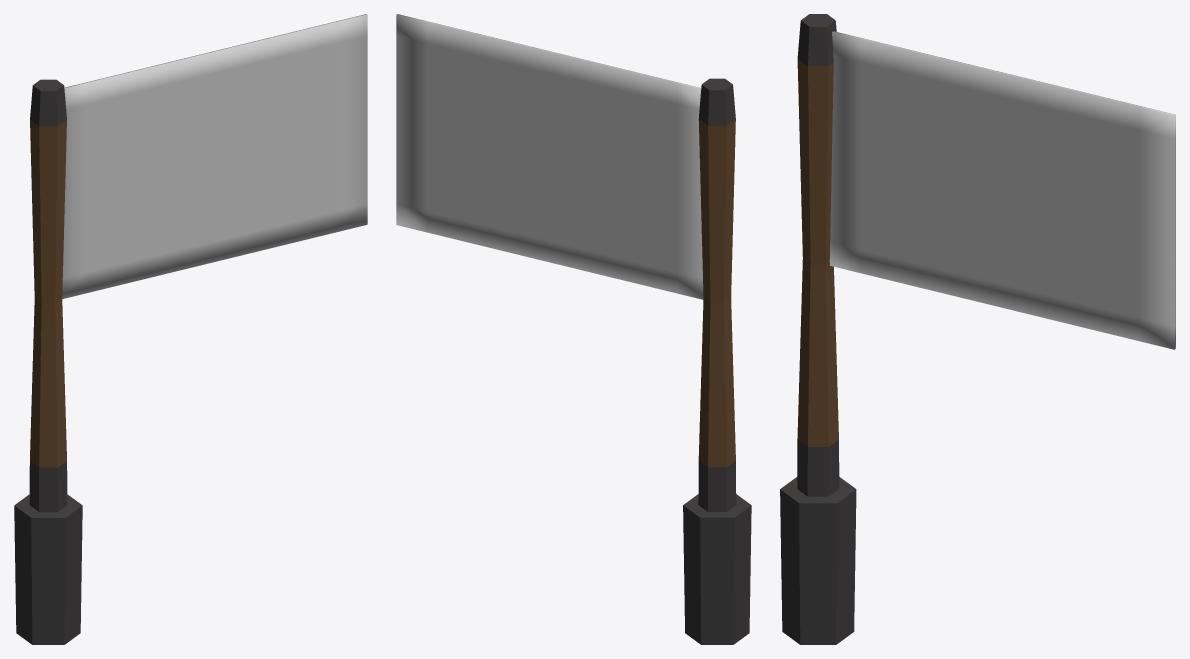
Rendered from flag_interactable.fbx.
The picture shows the model from 3 angles, left to right: view 1: azimuth 30°, elevation 25°; view 2: azimuth 150°, elevation 25°; view 3: azimuth 330°, elevation 25°; orthographic projection. The views are drawn at different scales.
Visible parts, largest first — view 1: flag_interactable; view 2: flag_interactable; view 3: flag_interactable.
Boxes of the visible parts, x1,y1,x2,y2 form: flag_interactable: [14, 14, 367, 644]; flag_interactable: [396, 14, 751, 644]; flag_interactable: [780, 14, 1175, 644].
Size of the model in its own units: 99.48 by 151 by 17.1.
